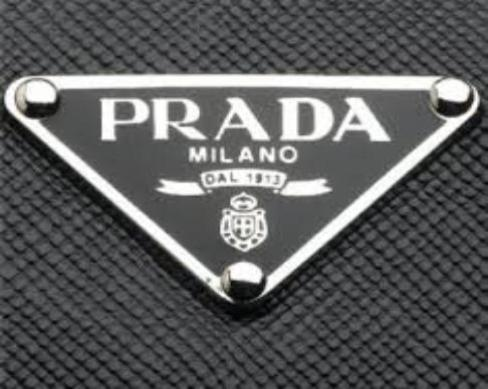PRADA: (90, 86, 392, 148)
